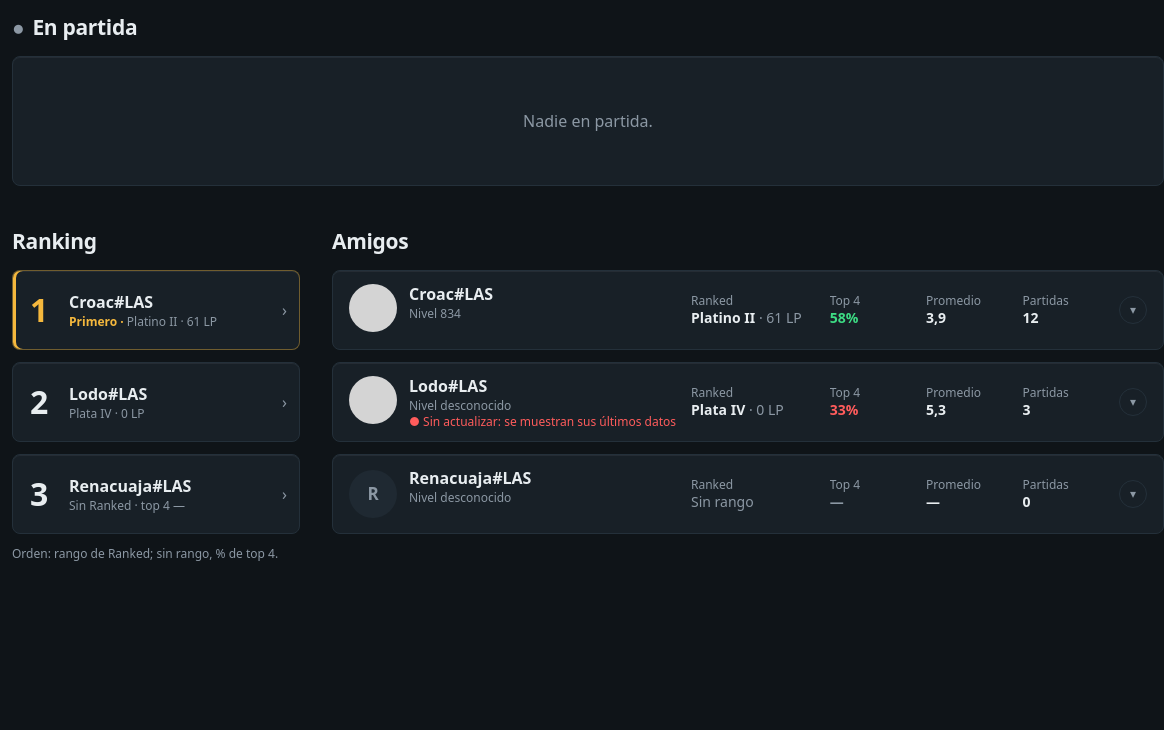
it: filtros por modo en TFT › aplica el filtro a las partidas, al resumen y al desglose
Click the button "Croac#LAS".
click(451, 294)  # box [409,282,493,306]
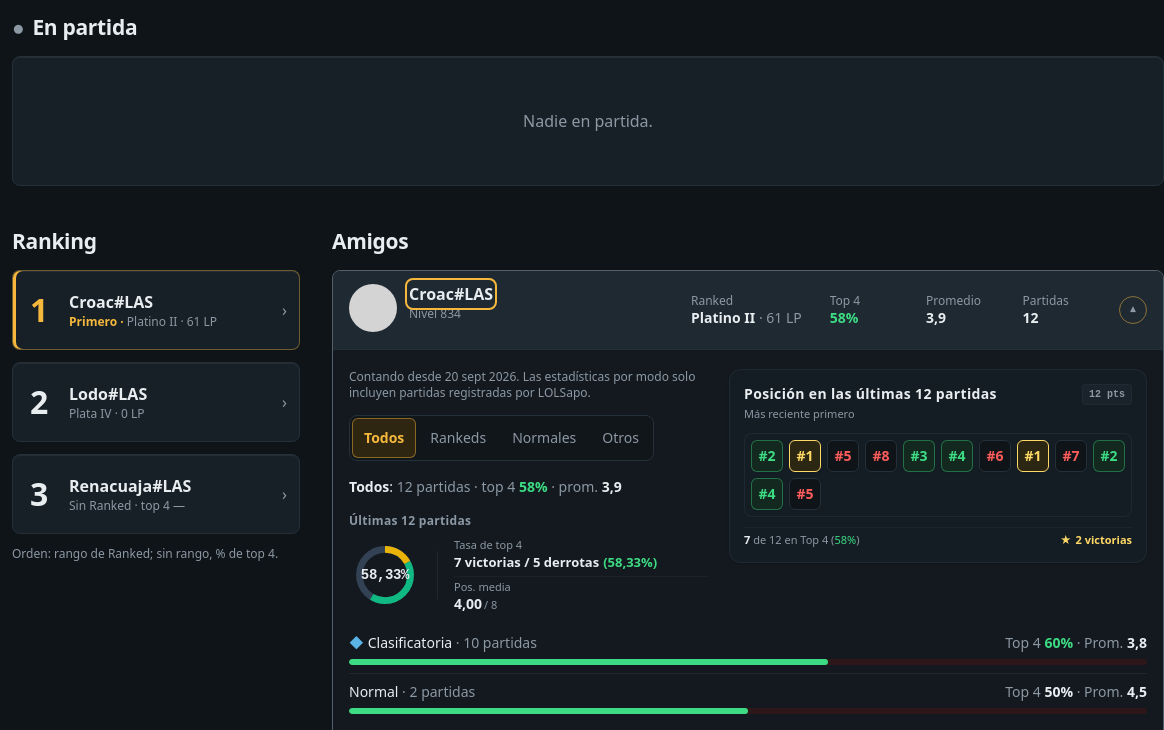
expect the element named "Estadísticas del filtro" reads "Todos: 12 partidas · top 4 58% · prom. 3,9": met, box [349,477,622,496]
Click the button "Rankeds".
click(458, 438)  # box [418,418,498,458]
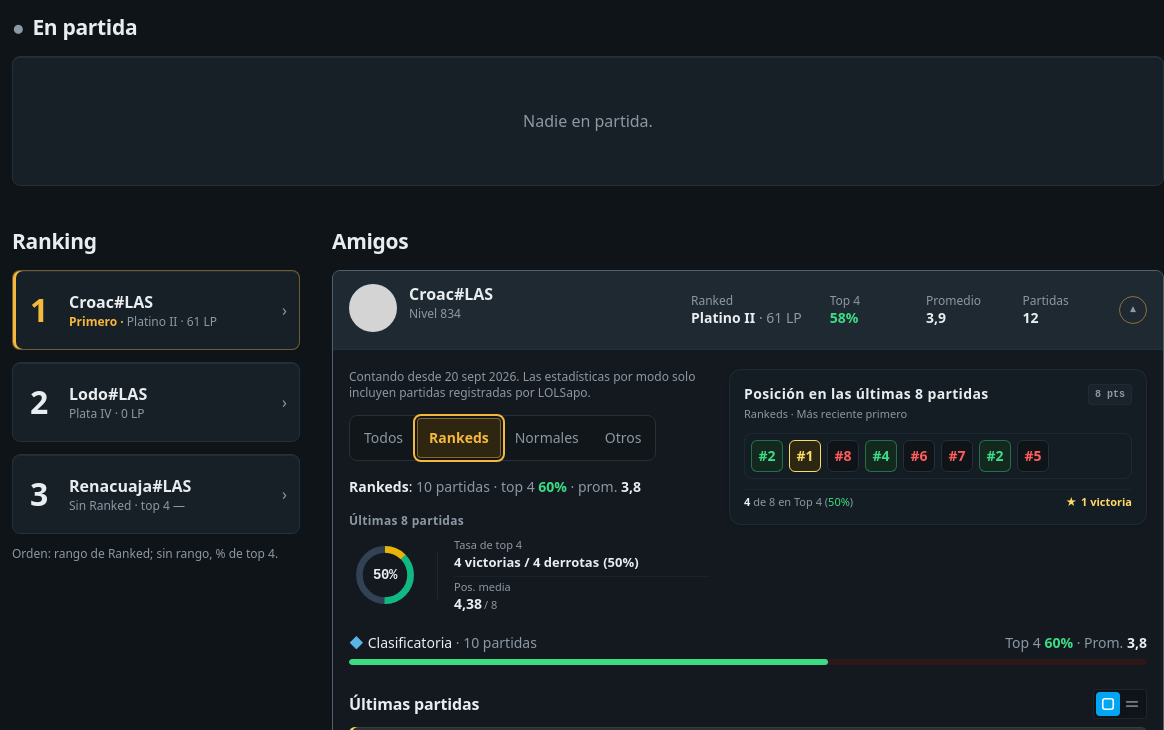
expect the list named "Desglose por modo" shows "Clasificatoria": met, box [368,633,452,652]
expect the element named "Estadísticas del filtro" reads "Rankeds: 10 partidas · top 4 60% · prom. 3,8": met, box [349,477,641,496]
Click the button "Normales".
click(547, 438)  # box [503,418,591,458]
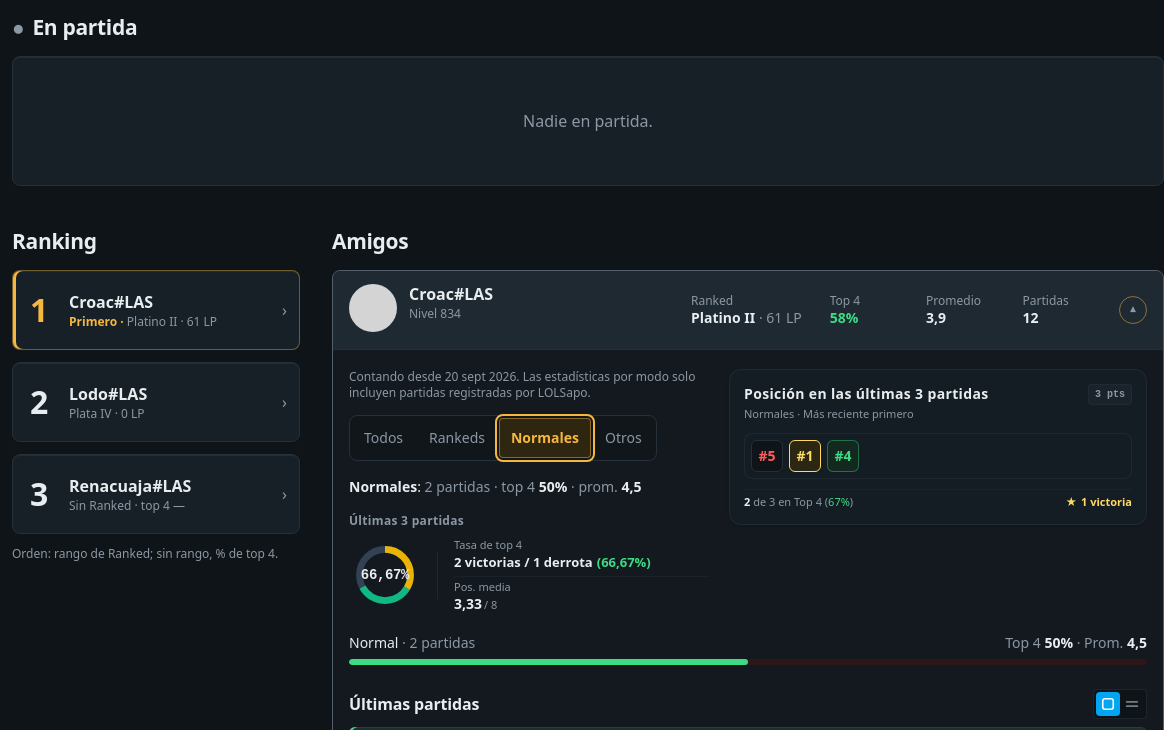
expect the element named "Estadísticas del filtro" reads "Normales: 2 partidas · top 4 50% · prom. 4,5": met, box [349,477,642,496]
expect the list named "Desglose por modo" shows "Normal": met, box [349,633,398,652]
